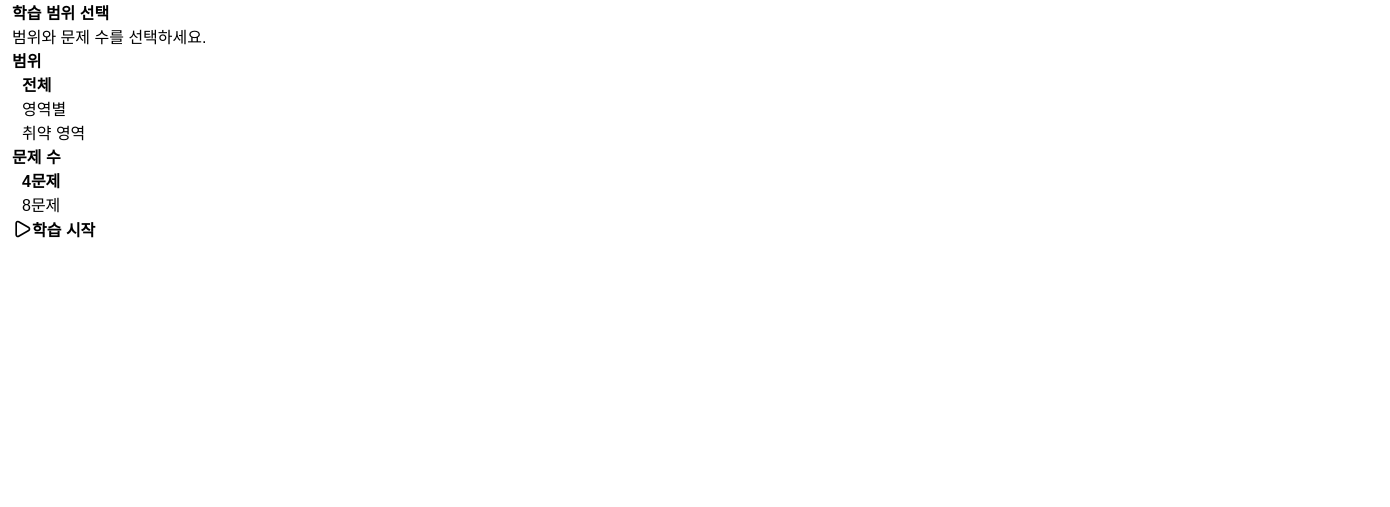
Scenario: 학습 화면 버튼 위계 › Pass 클릭 시 즉시 다음 문제로 이동한다(#185)
The image size is (1390, 507).
Click the button "학습 시작" at (54, 229), box 12,216 -> 95,242
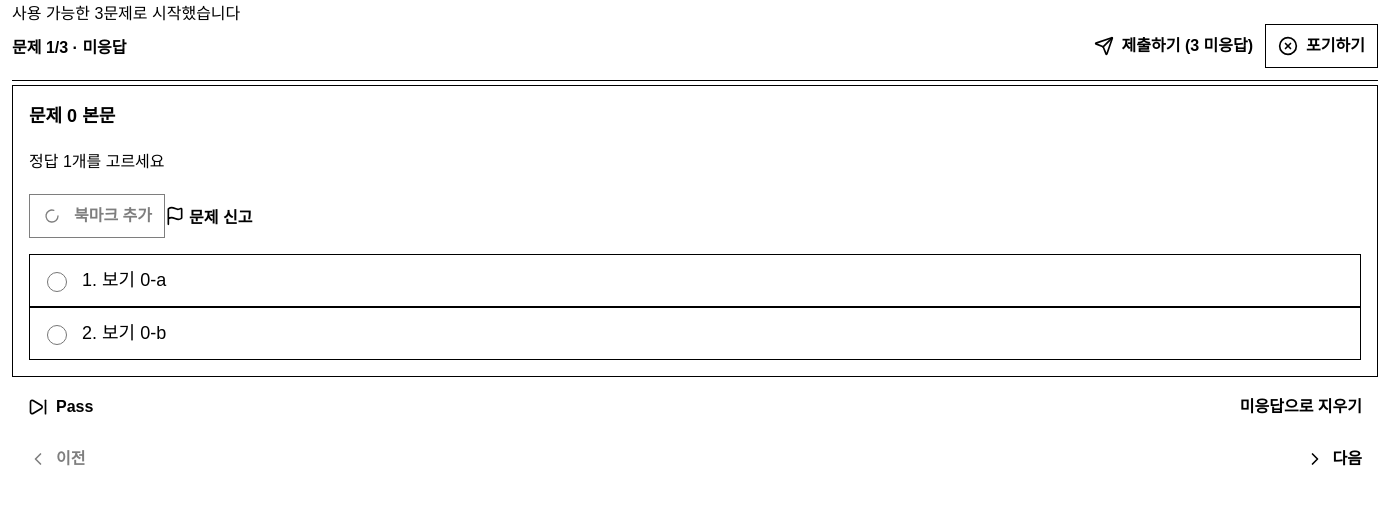
Expected: the text "문제 1/3 · 미응답" is shown, 12,34 -> 127,58
Click the button "Pass" at (61, 407), box 12,385 -> 109,429
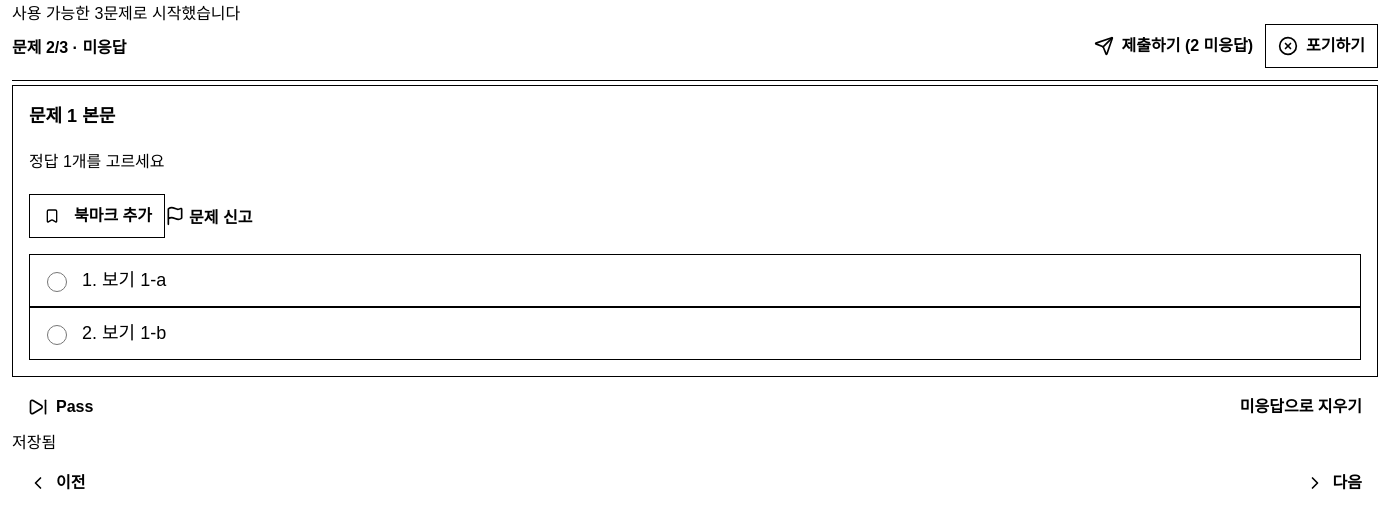
Expected: the text "문제 2/3 · 미응답" is shown, 12,34 -> 127,58
Expected: the heading "문제 1 본문" is shown, 29,106 -> 115,126
